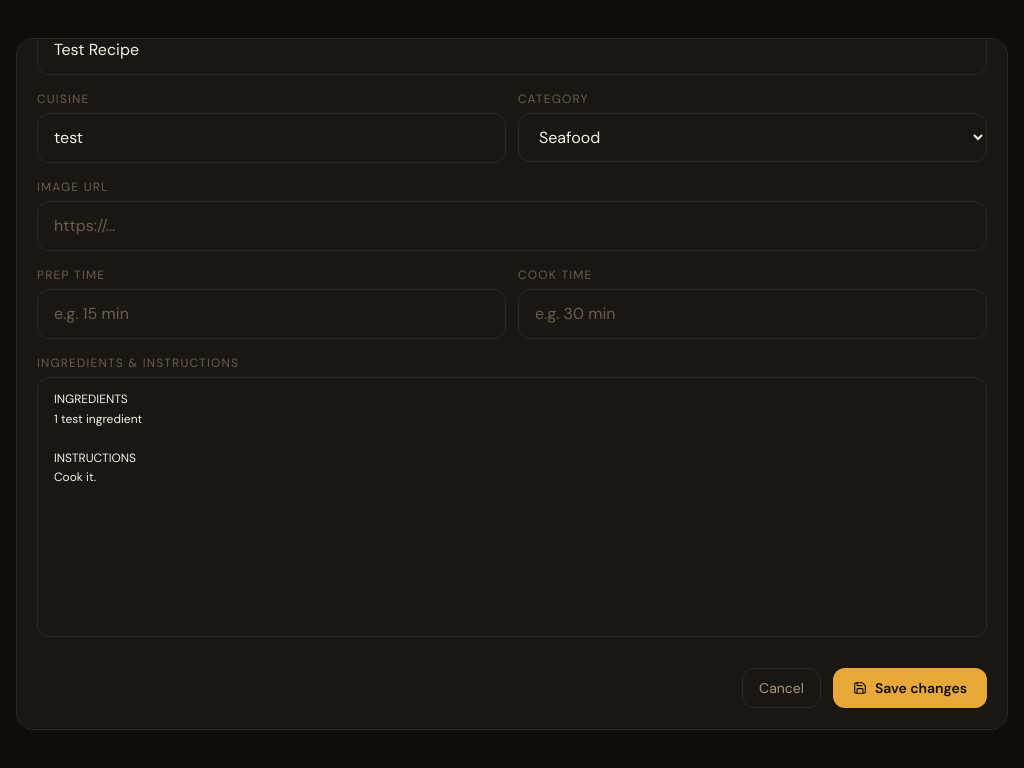
Test case: RecipeEditModal async completion and retry › waits for async readback before success and always releases saving
The image size is (1024, 768).
(page scrolled)
Click the button "Save changes" at (910, 688), box [833,668,987,708]
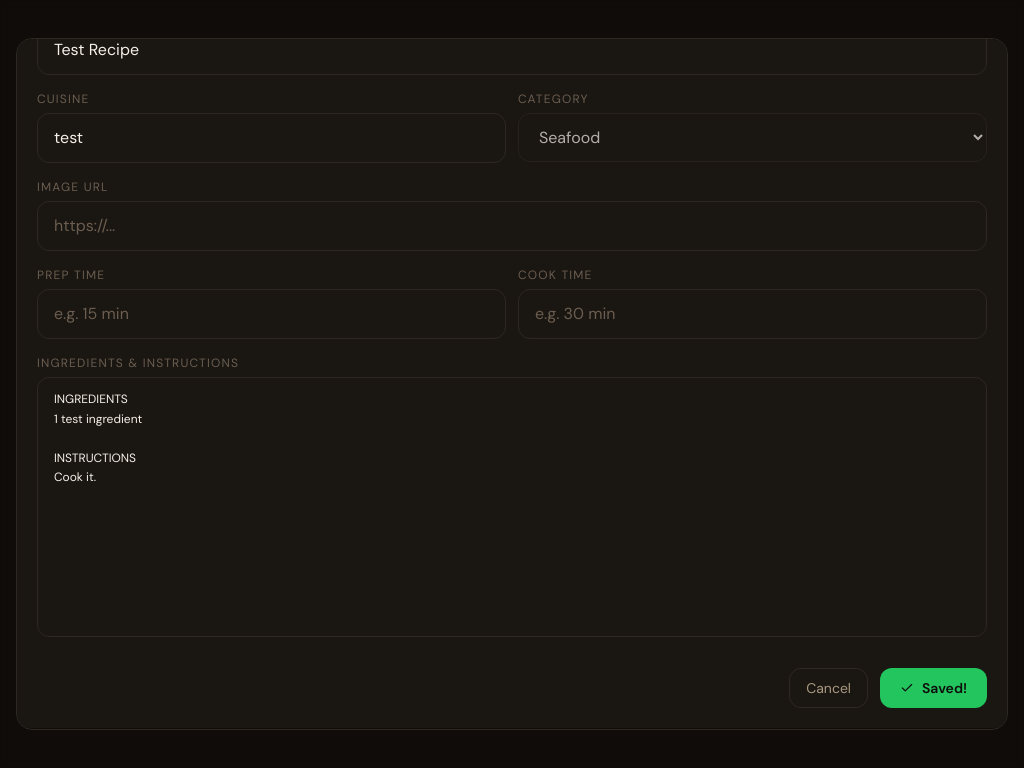
Expected: the button named "Save changes" is disabled, [880,668,987,708]
